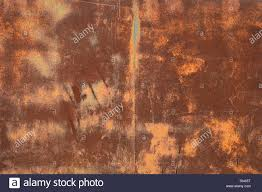rust: (2, 4, 261, 172)
